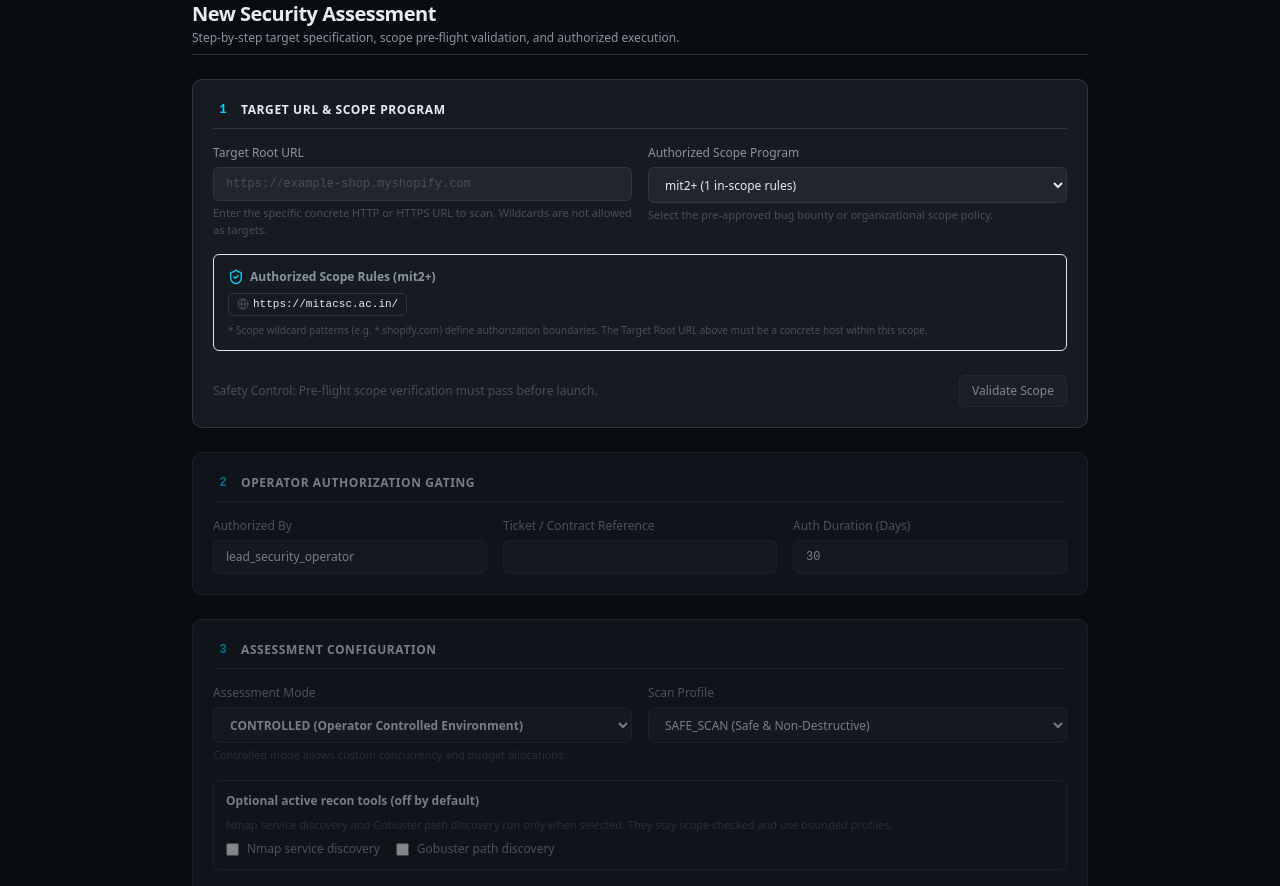
Scenario: NewAssessment Crash Investigation & Resilience Suite › 8. Authorization PASS renders normally
The width and height of the screenshot is (1280, 886).
Type "https://mitacsc.ac.in/" into the field with placeholder "https://example-shop.myshopify.com" at x=422, y=184, box [213,167,632,201]
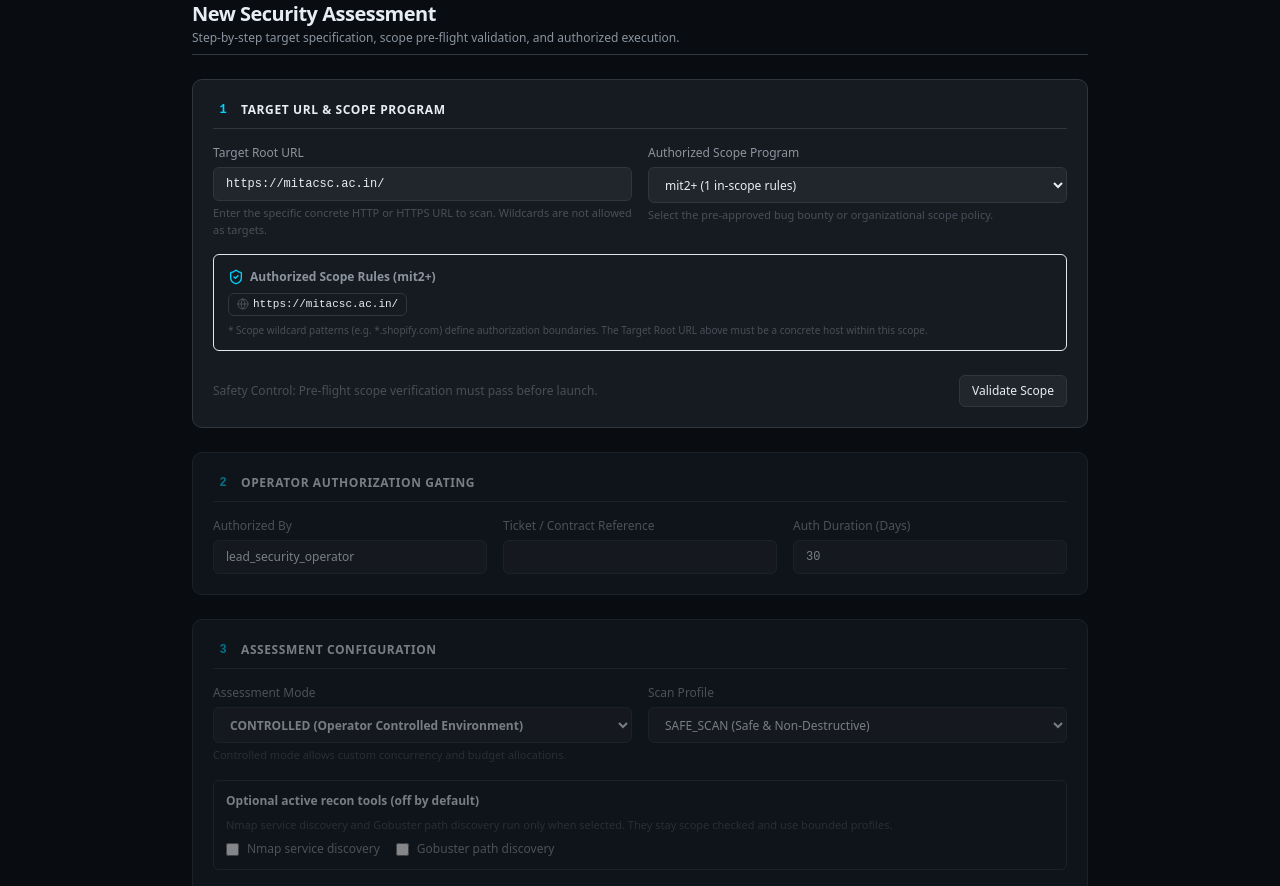
Check: the button "Validate Scope" is enabled
Click the button "Validate Scope" at x=1013, y=391, box [959,375,1067,407]
(page scrolled)
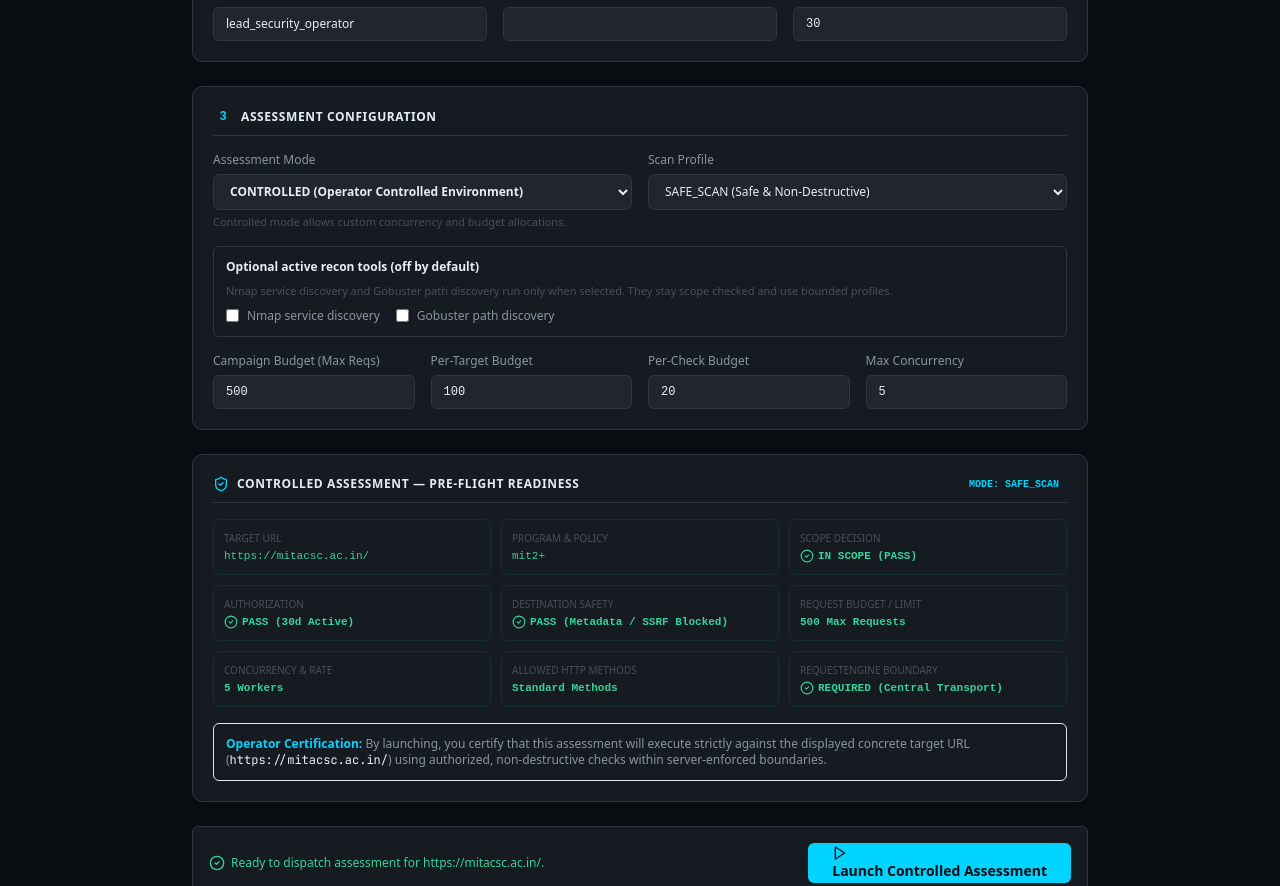
Check: the text "PASS (30d Active)" is shown, box [242,614,354,630]
